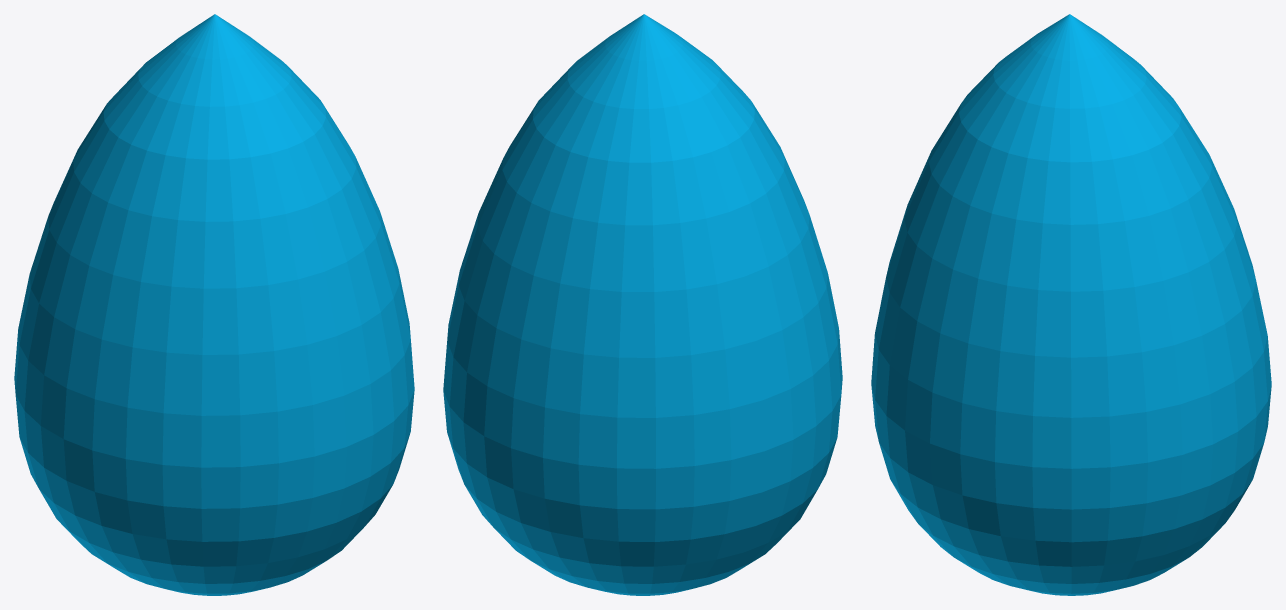
Rendered from water_dpsd19080.gltf.
The picture shows the model from 3 angles, left to right: view 1: azimuth 30°, elevation 25°; view 2: azimuth 150°, elevation 25°; view 3: azimuth 270°, elevation 25°; orthographic projection.
Visible parts, largest first — view 1: Sphere; view 2: Sphere; view 3: Sphere.
Part boxes in pixels (x1=…): Sphere: x1=14, y1=14, x2=414, y2=595; Sphere: x1=443, y1=14, x2=842, y2=595; Sphere: x1=871, y1=14, x2=1271, y2=595.
Bounding box in the file's own units: 2 × 3.1 × 2.
